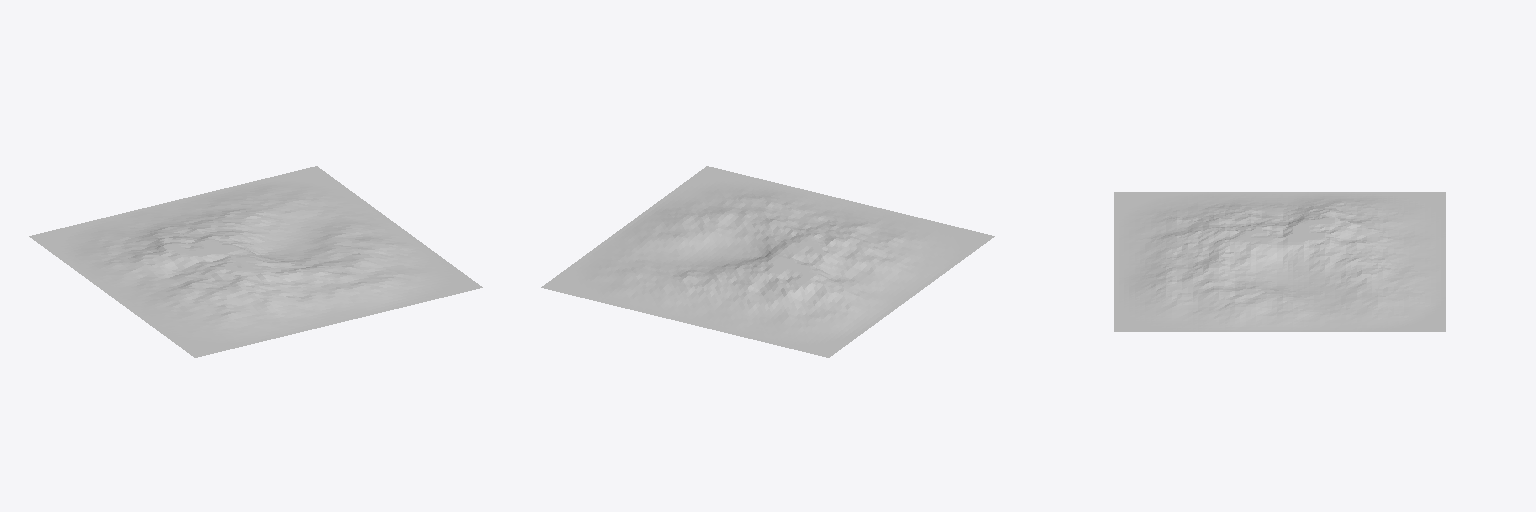
The model's file is simple_terrain.obj.
The picture shows the model from 3 angles: view 1: azimuth 30°, elevation 25°; view 2: azimuth 150°, elevation 25°; view 3: azimuth 270°, elevation 25°; orthographic projection.
Visible parts, largest first — view 1: Landscape; view 2: Landscape; view 3: Landscape.
Part boxes in pixels (x1,y1,x2,y2): Landscape: (29, 166, 482, 357); Landscape: (541, 166, 994, 357); Landscape: (1114, 192, 1445, 331).
Bounding box in the file's own units: 100 × 4 × 100.